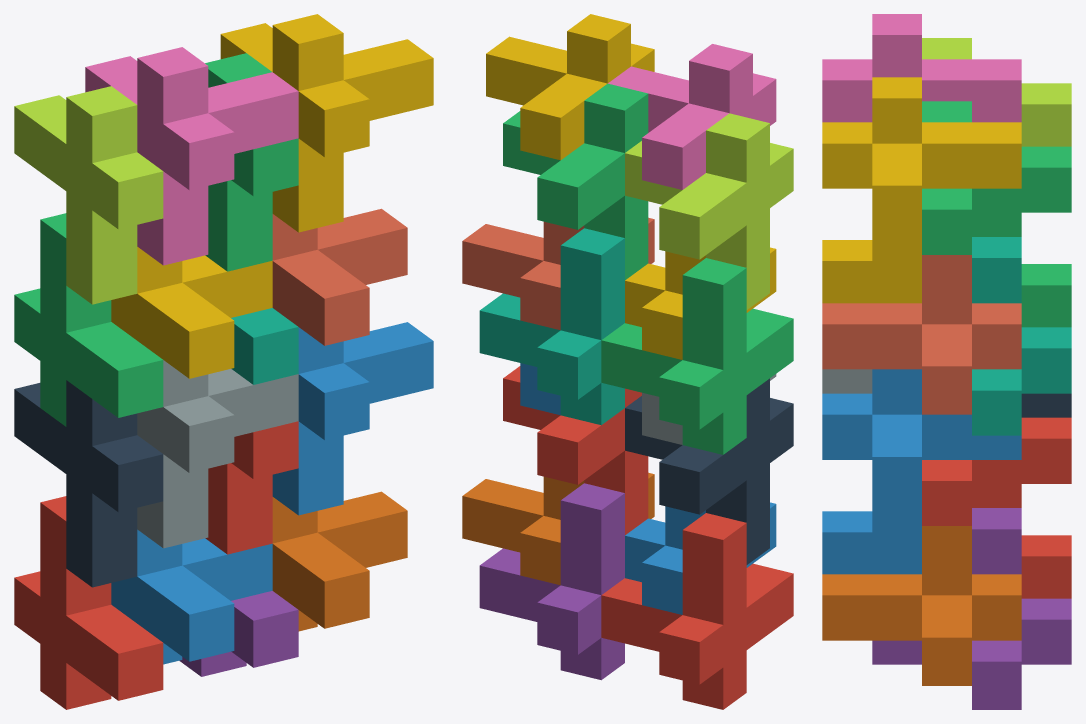
Rendered from tiling.obj.
The picture shows the model from 3 angles, left to right: view 1: azimuth 30°, elevation 25°; view 2: azimuth 150°, elevation 25°; view 3: azimuth 270°, elevation 25°; orthographic projection. The views are drawn at different scales.
Parts seen in each view (by area): view 1: copy_2_domain_4, copy_2_domain_8, copy_2_domain_3, copy_2_domain_1, copy_1_domain_1, copy_2_domain_6, copy_2_domain_2, copy_1_domain_3, copy_1_domain_6, copy_1_domain_2, copy_1_domain_8, copy_1_domain_4 (+4 smaller); view 2: copy_1_domain_1, copy_1_domain_3, copy_2_domain_3, copy_1_domain_5, copy_1_domain_7, copy_2_domain_7, copy_2_domain_8, copy_2_domain_1, copy_2_domain_4, copy_2_domain_5, copy_1_domain_6, copy_1_domain_8 (+4 smaller); view 3: copy_2_domain_8, copy_1_domain_6, copy_1_domain_8, copy_2_domain_6, copy_2_domain_4, copy_1_domain_5, copy_1_domain_7, copy_2_domain_7, copy_2_domain_5, copy_1_domain_3, copy_1_domain_2, copy_1_domain_4 (+4 smaller).
Boxes of the visible parts, x1,y1,x2,y2 form: copy_2_domain_4: [85, 47, 298, 265]; copy_2_domain_8: [220, 14, 433, 232]; copy_2_domain_3: [14, 86, 163, 304]; copy_2_domain_1: [14, 380, 163, 587]; copy_1_domain_1: [14, 496, 163, 709]; copy_2_domain_6: [272, 322, 433, 515]; copy_2_domain_2: [137, 360, 298, 548]; copy_1_domain_3: [14, 213, 163, 426]; copy_1_domain_6: [272, 491, 407, 631]; copy_1_domain_2: [111, 529, 272, 664]; copy_1_domain_8: [272, 208, 407, 345]; copy_1_domain_4: [111, 247, 272, 378]; copy_1_domain_1: [601, 513, 793, 709]; copy_1_domain_3: [601, 258, 793, 454]; copy_2_domain_3: [625, 113, 793, 309]; copy_1_domain_5: [479, 483, 624, 680]; copy_1_domain_7: [479, 228, 624, 425]; copy_2_domain_7: [503, 83, 648, 279]; copy_2_domain_8: [486, 14, 654, 160]; copy_2_domain_1: [625, 378, 793, 564]; copy_2_domain_4: [608, 44, 776, 189]; copy_2_domain_5: [503, 366, 648, 534]; copy_1_domain_6: [462, 472, 654, 585]; copy_1_domain_8: [462, 217, 654, 330]; copy_2_domain_8: [822, 77, 1021, 278]; copy_1_domain_6: [822, 526, 1021, 685]; copy_1_domain_8: [822, 255, 1021, 414]; copy_2_domain_6: [822, 369, 1021, 550]; copy_2_domain_4: [822, 14, 1021, 122]; copy_1_domain_5: [872, 508, 1071, 709]; copy_1_domain_7: [972, 237, 1071, 435]; copy_2_domain_7: [922, 101, 1071, 254]; copy_2_domain_5: [922, 417, 1071, 525]; copy_1_domain_3: [972, 212, 1071, 327]; copy_1_domain_2: [822, 511, 921, 574]; copy_1_domain_4: [822, 240, 921, 303].
Bounding box in the file's own units: 7 × 14 × 5.
